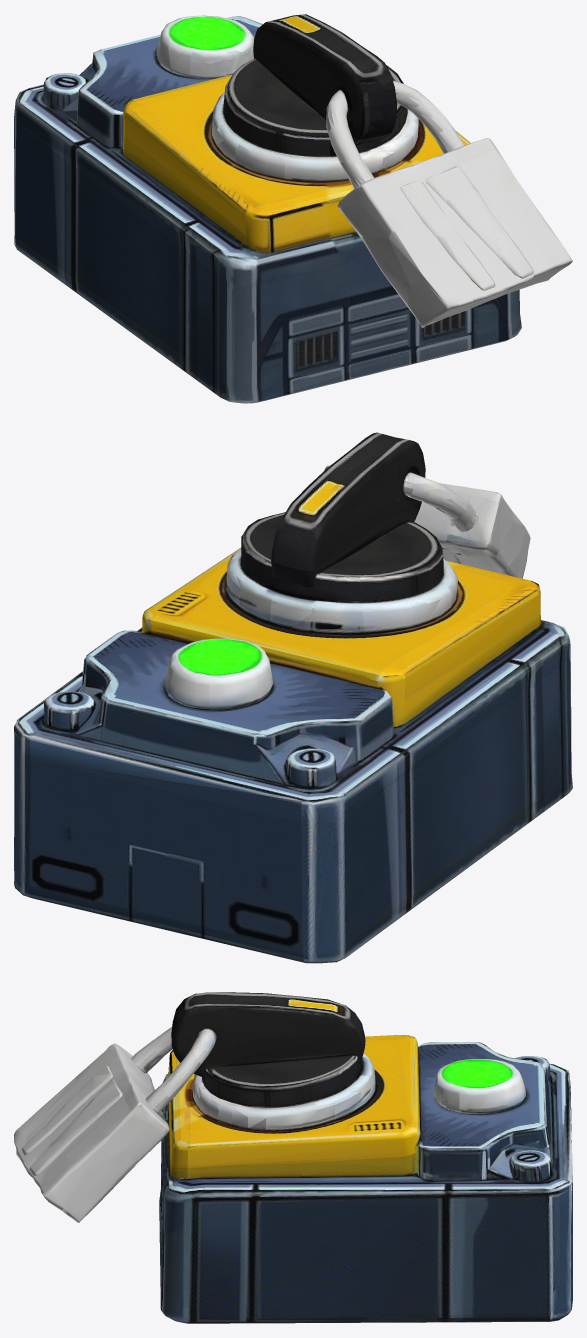
File: continuous_duty.glb
3 views of the same model, one above another, from view 1: azimuth 30°, elevation 25°; view 2: azimuth 150°, elevation 25°; view 3: azimuth 270°, elevation 25° (orthographic). The views are drawn at different scales.
Size of the model in its own units: 0.5527 by 0.5195 by 1.
Materials: 1 (1 with a texture image).
